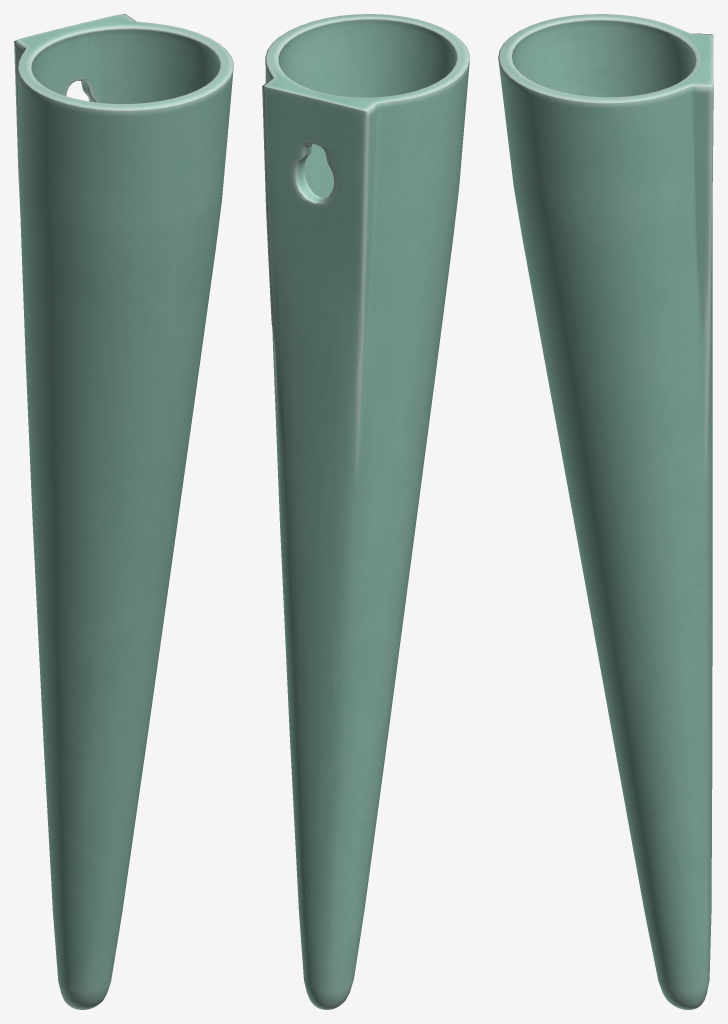
File: planter_B075HXQJYB.glb
The picture shows the model from 3 angles, left to right: view 1: azimuth 30°, elevation 25°; view 2: azimuth 150°, elevation 25°; view 3: azimuth 270°, elevation 25°; orthographic projection. The views are drawn at different scales.
Visible parts, largest first — view 1: RootNode; view 2: RootNode; view 3: RootNode.
Part boxes in pixels (left/top/right/bottom): RootNode: left=14, top=14, right=233, bottom=1009; RootNode: left=262, top=14, right=469, bottom=1009; RootNode: left=498, top=14, right=713, bottom=1009.
Size of the model in its own units: 0.054 by 0.2681 by 0.055.
1 material, 1 textured.
